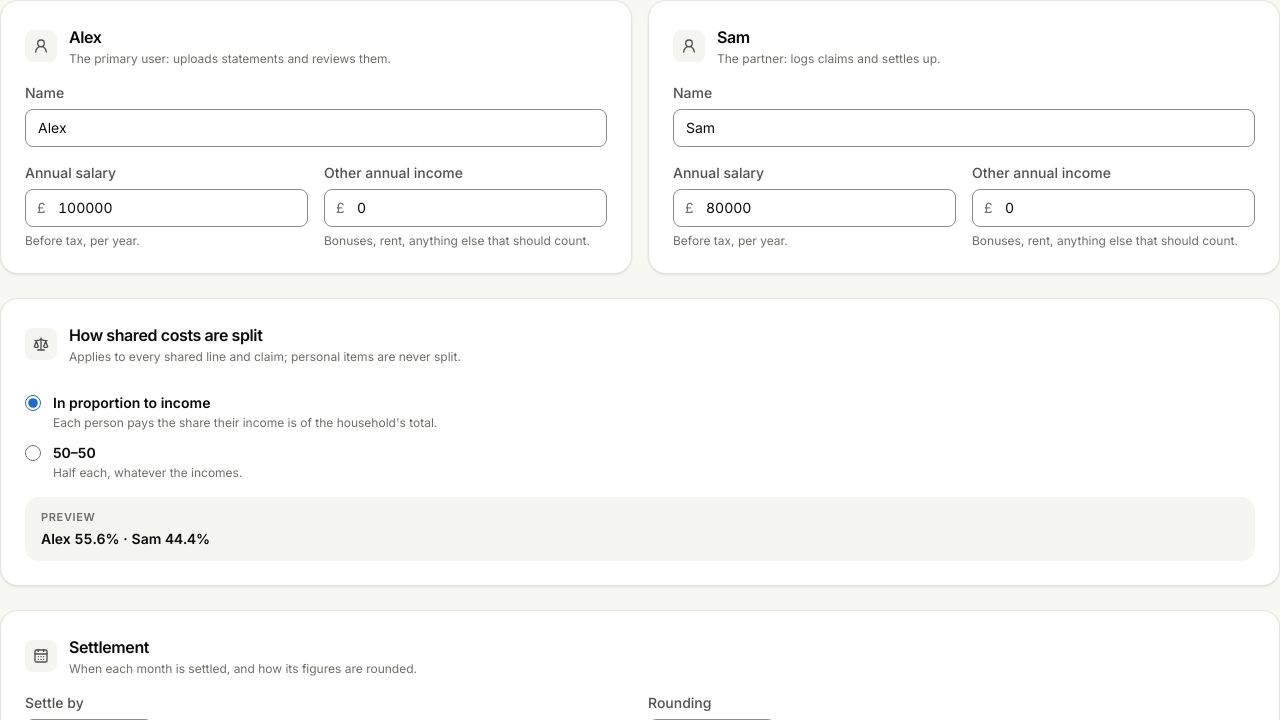
Test: <HouseholdPanel /> › sends only the fields that changed, confirms, and refreshes the config
Replace the text in the field labelled "Annual salary" below "The partner: logs claims and settles up." with "90000": (814, 208) [673,189,956,227]
(page scrolled)
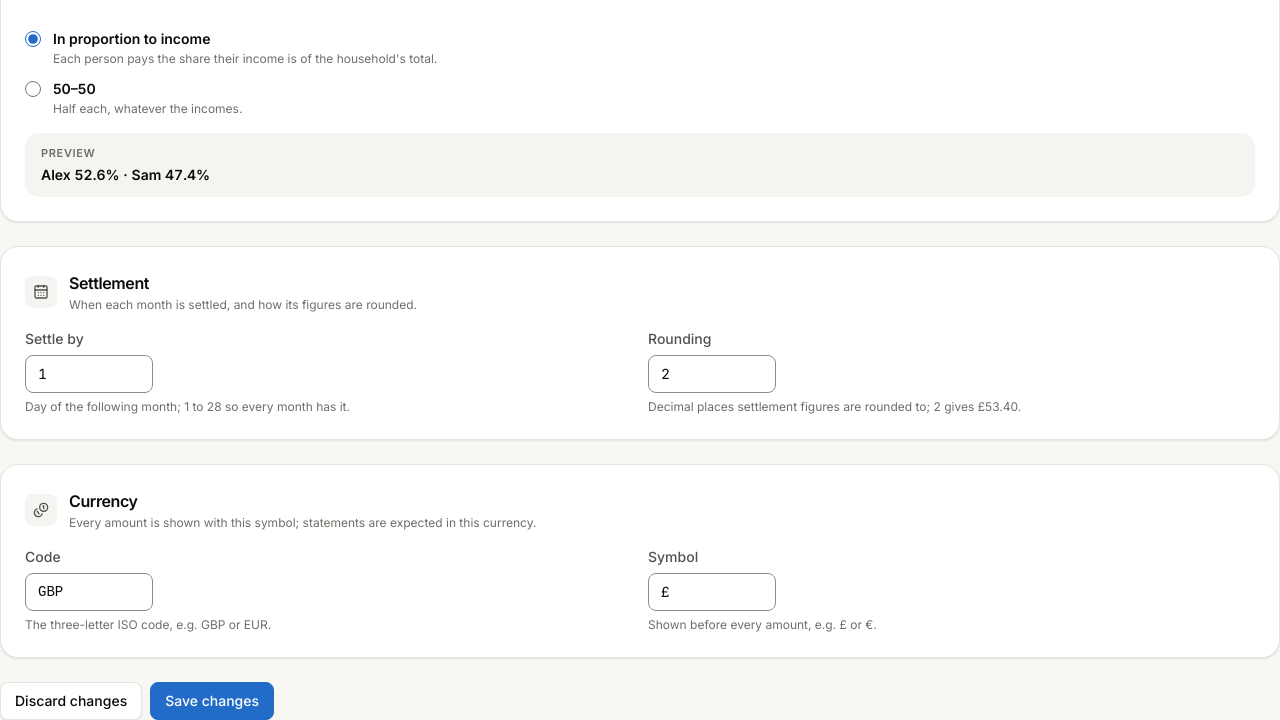
Expected: the text "Alex 52.6% · Sam 47.4%" is shown, [41,166,210,183]
Replace the text in the number field labelled "Settle by" with "5": (89, 374) [25,355,153,393]
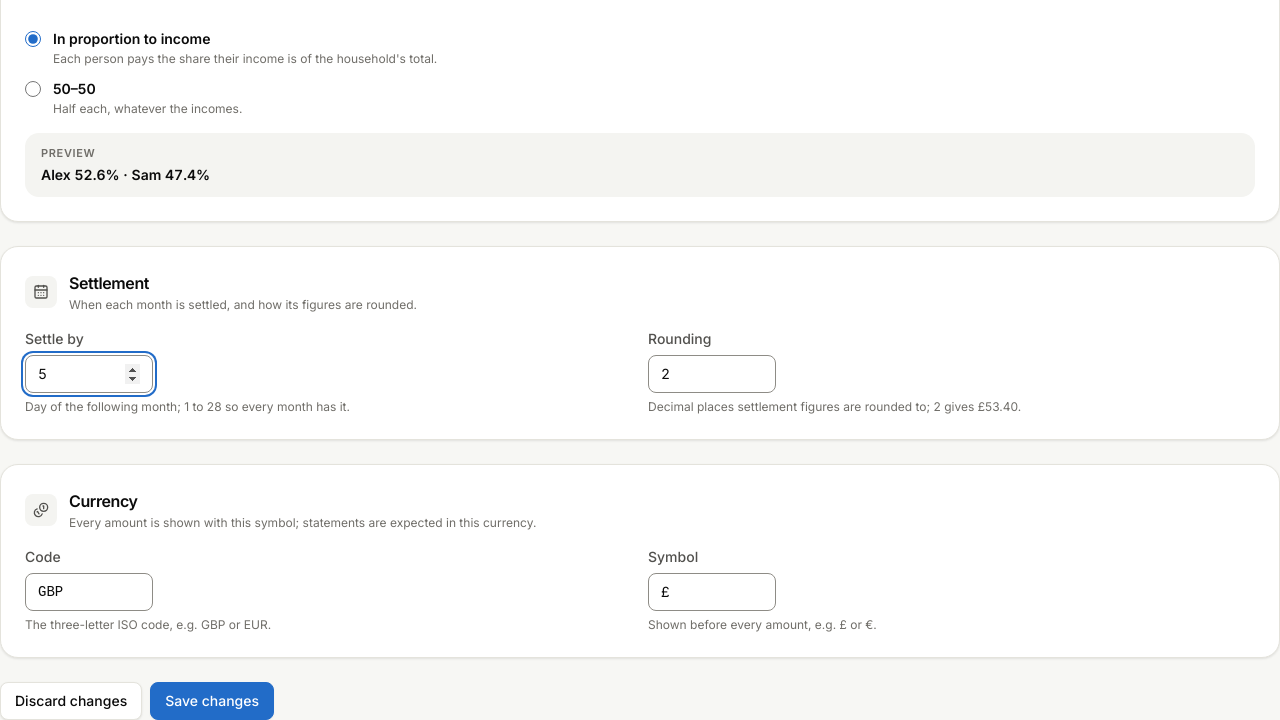
Expected: the button "Discard changes" is enabled, [0,682,142,719]
Click the button "Save changes": (212, 701) [150,682,274,719]
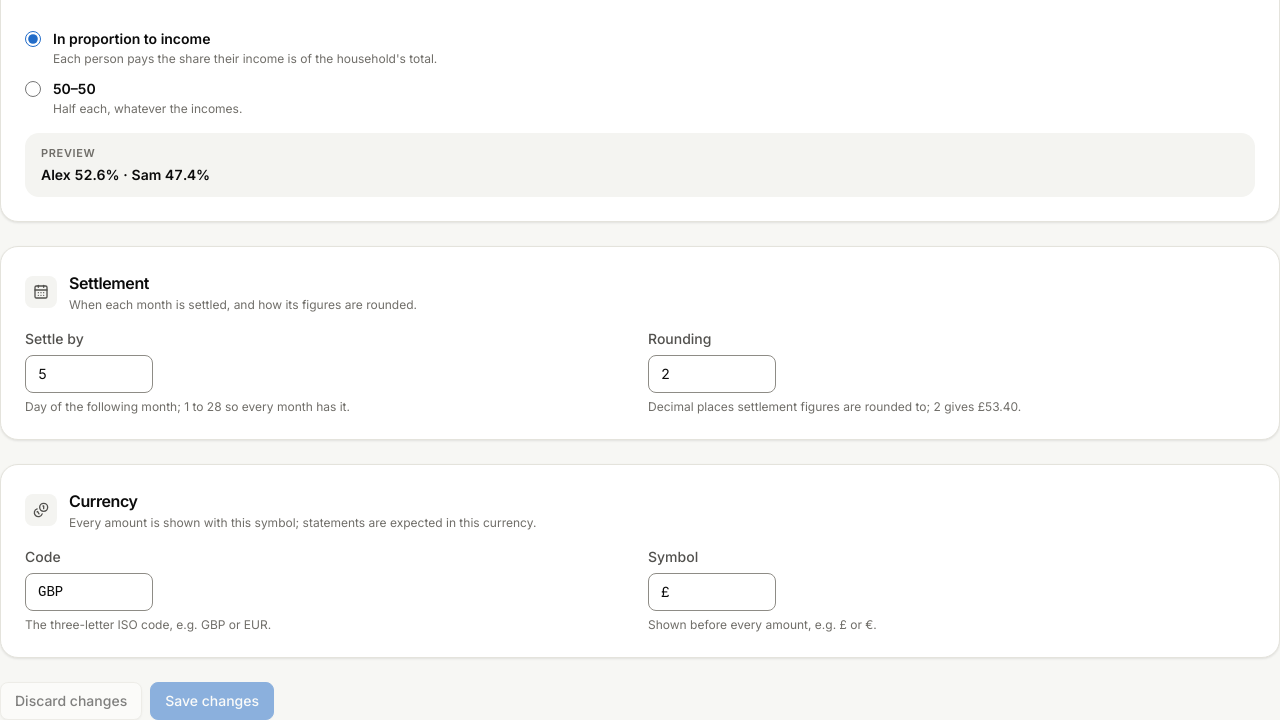
Expected: the button "Save changes" is disabled, [150,682,274,719]
